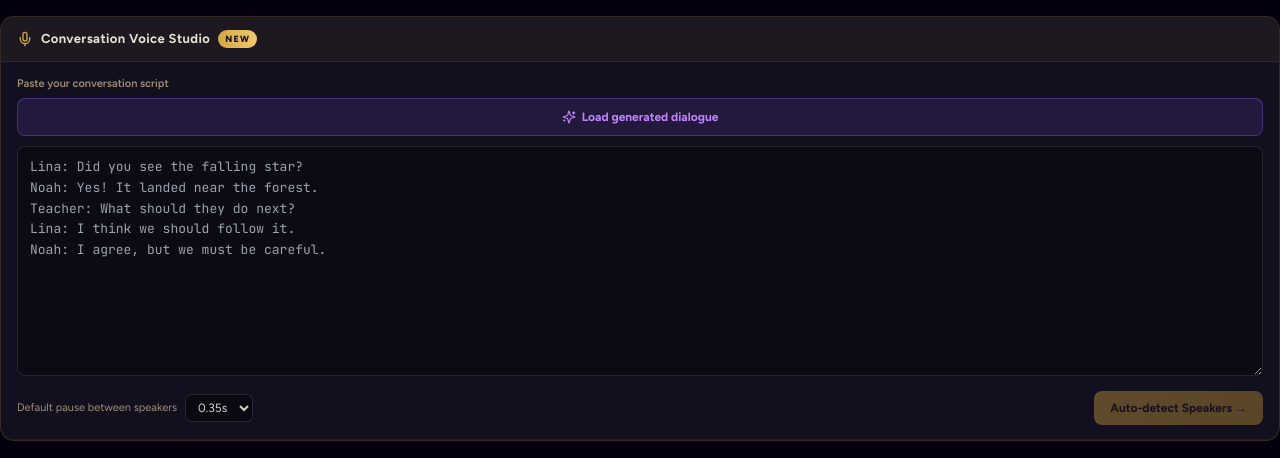
it: once loaded, the button disappears until new content differs
Click the button with test id "cvs-load-generated-btn": (640, 117) [17,98,1263,136]
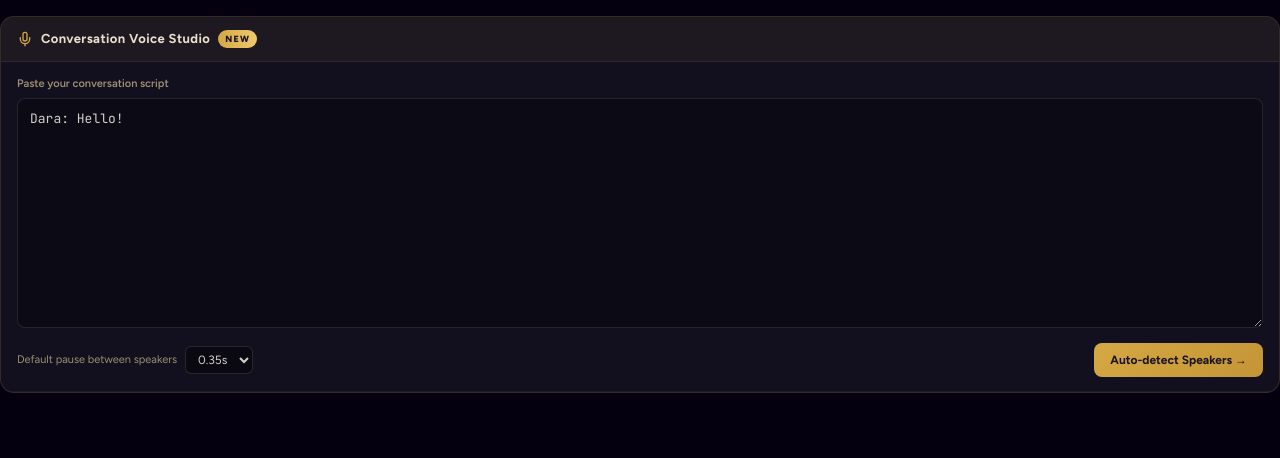
Result: the button with test id "cvs-load-generated-btn" is gone
